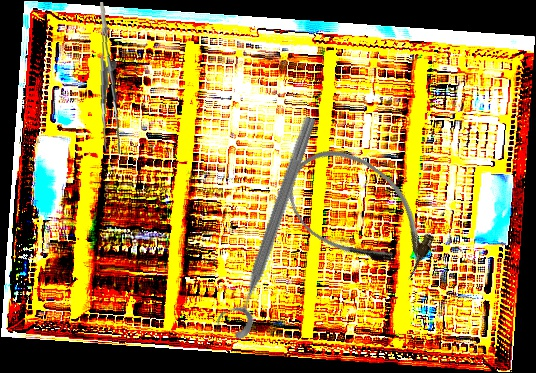Cannula: (271, 130, 451, 297)
Fixation Ring: (211, 109, 323, 342)
Tissue Forceps: (89, 2, 131, 154)
